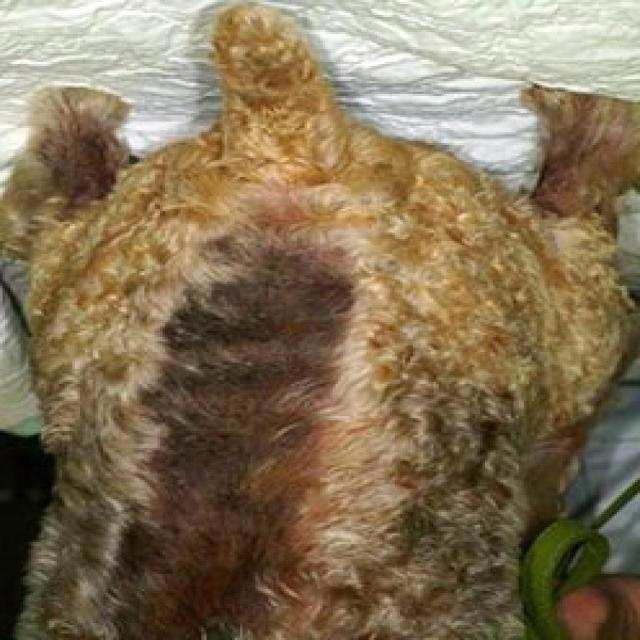allergic dermatitis: (135, 244, 337, 640)
